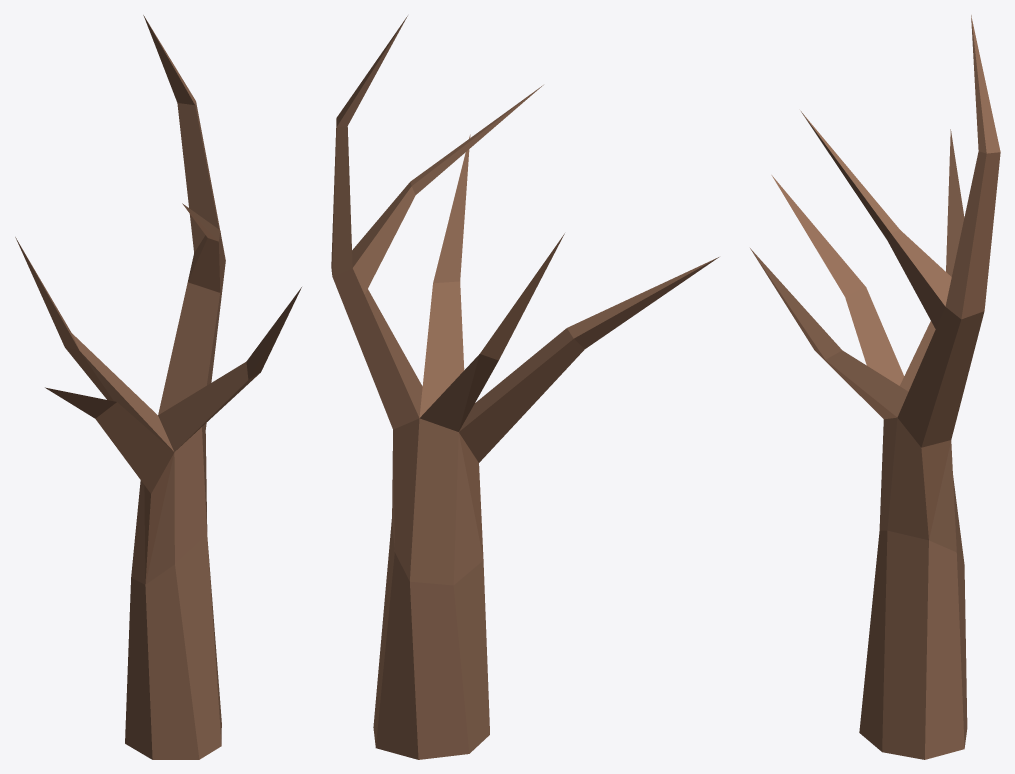
Rendered from TreeAutumn6.fbx.
3 views of the same model, side by side, from view 1: azimuth 30°, elevation 25°; view 2: azimuth 150°, elevation 25°; view 3: azimuth 270°, elevation 25° (orthographic). The views are drawn at different scales.
Visible parts, largest first — view 1: TreeAutumn6; view 2: TreeAutumn6; view 3: TreeAutumn6.
Boxes of the visible parts, x1,y1,x2,y2 form: TreeAutumn6: (15,15,301,759); TreeAutumn6: (331,16,718,759); TreeAutumn6: (750,15,1000,759).
Size of the model in its own units: 0.8585 by 2.11 by 0.6677.
